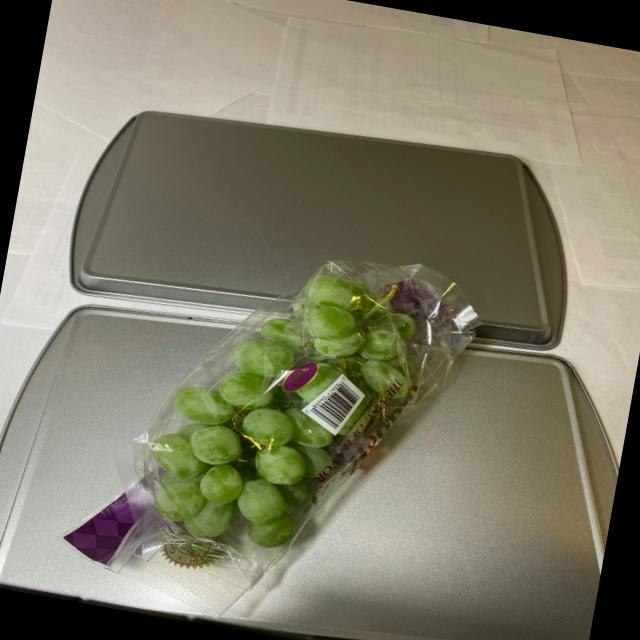grapes: (129, 242, 448, 588)
